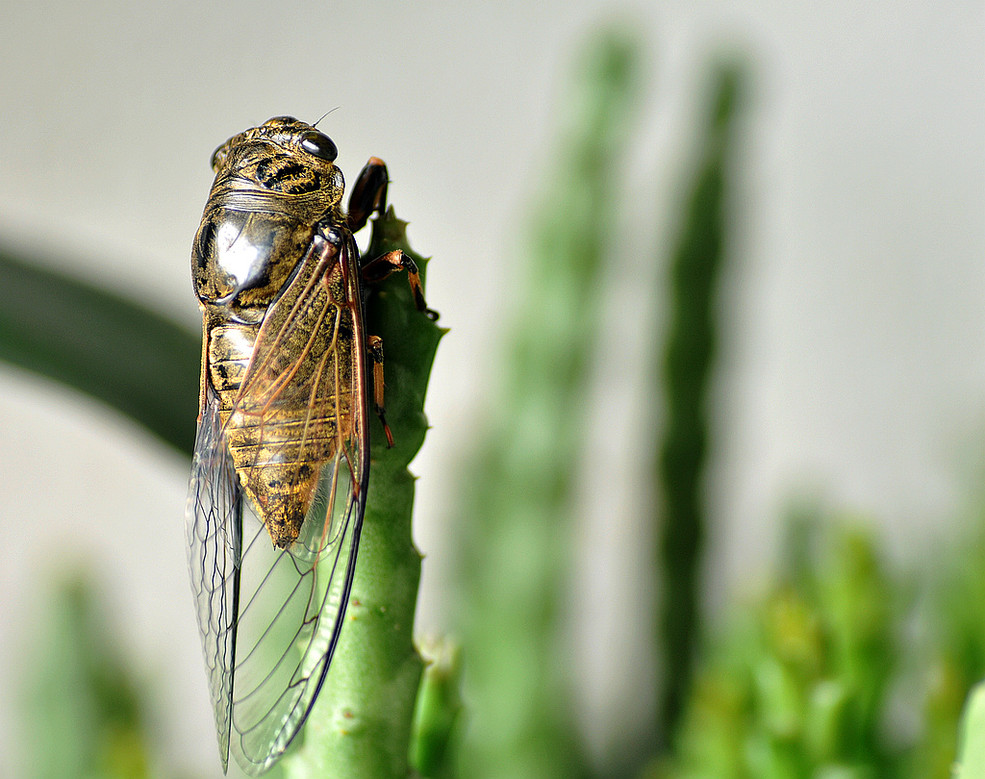chan: (169, 111, 439, 640)
